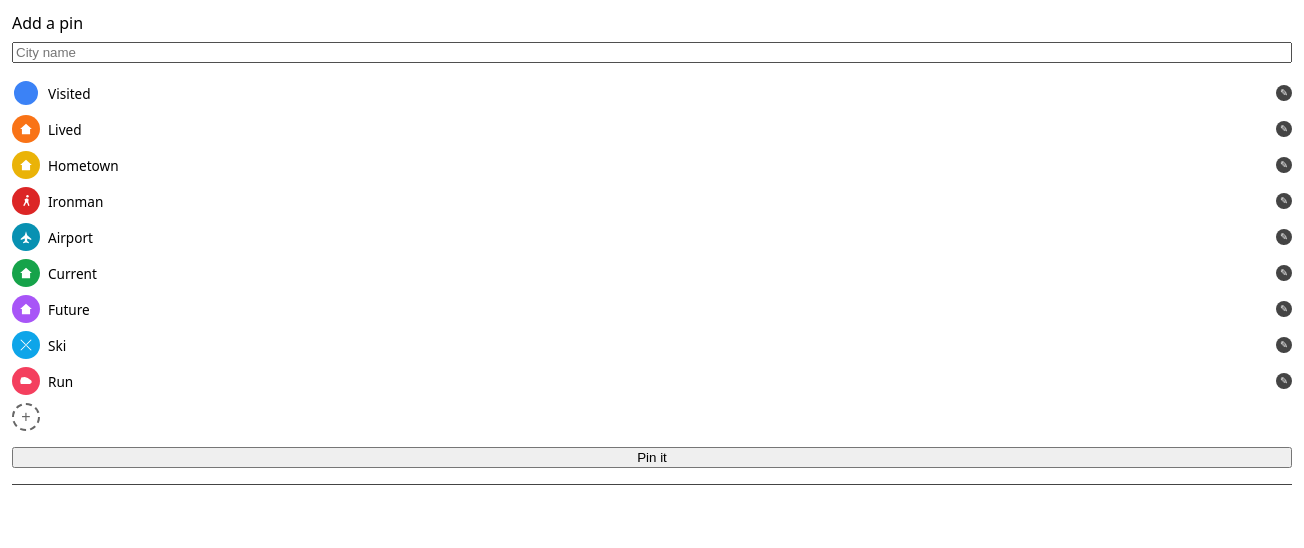
AddPin autocomplete › fills the input with the clicked suggestion and clears the list
In the field labelled "Add a pin": (652, 52) [12,42,1292,63], type "Par"
Wait 300 ms
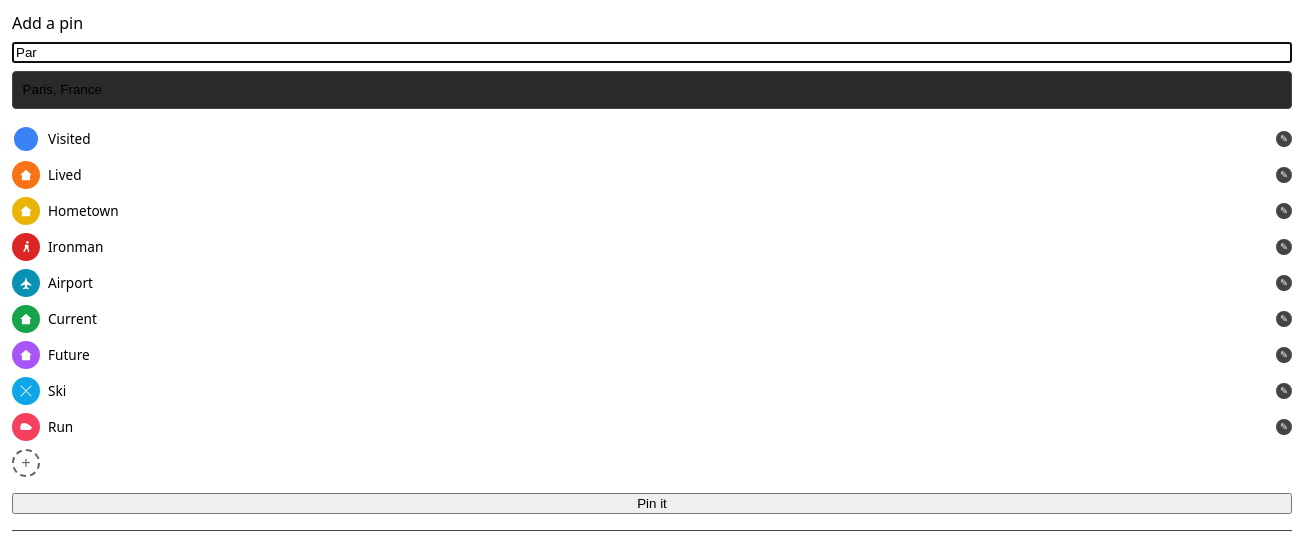
Click the button "Paris, France": (62, 90) [13,76,1291,104]
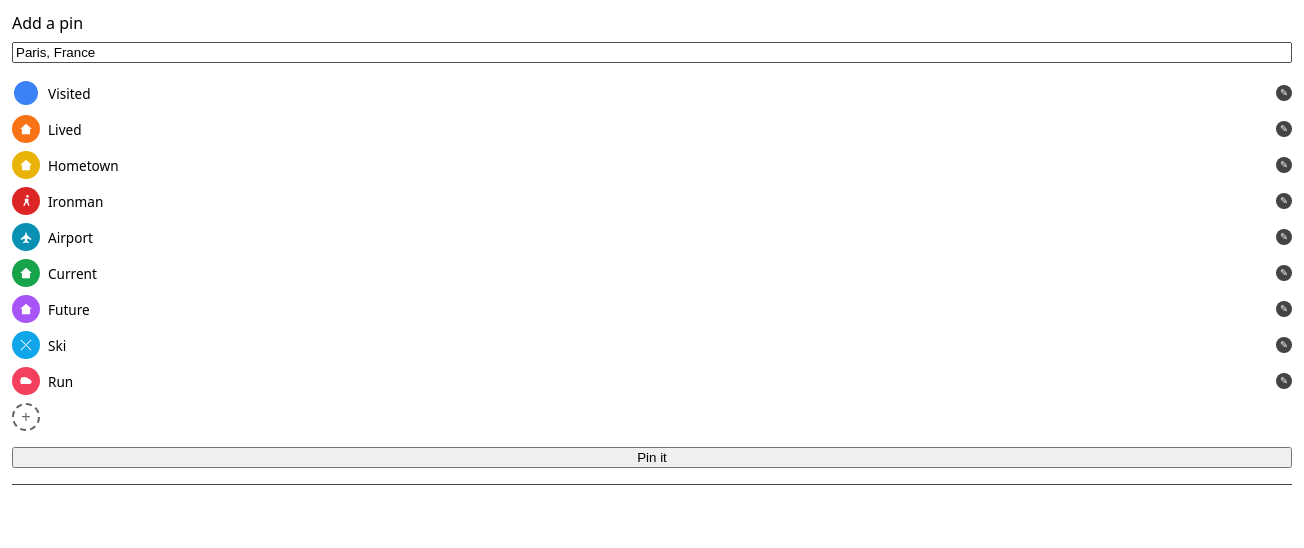
Check: the field labelled "Add a pin" holds "Paris, France", box [12,42,1292,63]
